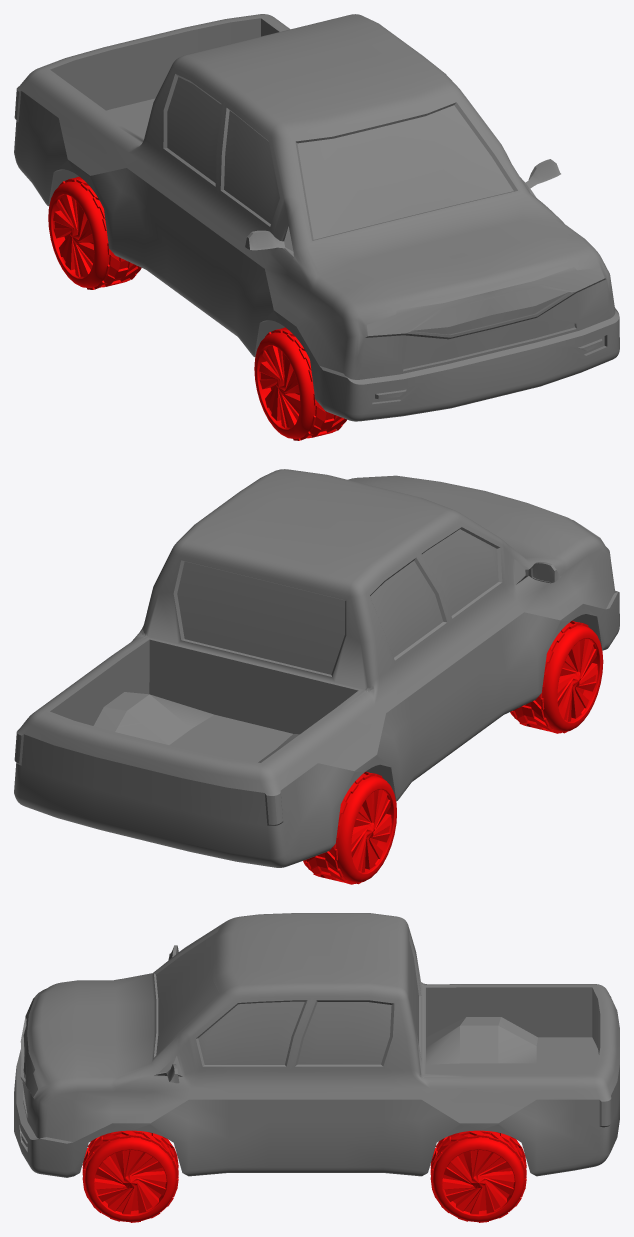
File: Truck.fbx
The picture shows the model from 3 angles, top to bottom: view 1: azimuth 30°, elevation 25°; view 2: azimuth 150°, elevation 25°; view 3: azimuth 270°, elevation 25°; orthographic projection. The views are drawn at different scales.
Visible parts, largest first — view 1: Truck, WheeBR, WheelFR; view 2: Truck, WheeBR, WheelFR; view 3: Truck, WheelBL, WheelFL.
Boxes of the visible parts, left/top/right/bottom form: Truck: left=14, top=14, right=619, bottom=421; WheeBR: left=48, top=176, right=141, bottom=289; WheelFR: left=254, top=327, right=346, bottom=440; Truck: left=14, top=469, right=619, bottom=867; WheeBR: left=303, top=771, right=396, bottom=884; WheelFR: left=510, top=620, right=603, bottom=733; Truck: left=14, top=913, right=619, bottom=1177; WheelBL: left=430, top=1130, right=526, bottom=1222; WheelFL: left=82, top=1130, right=178, bottom=1222.
Size of the model in its own units: 370 by 291 by 739.
